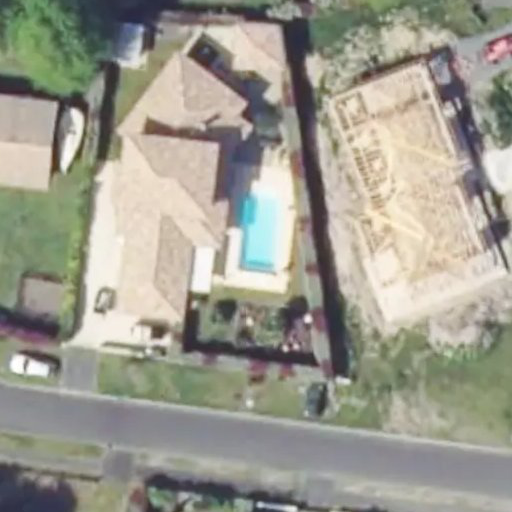pool: (235, 194, 282, 274)
